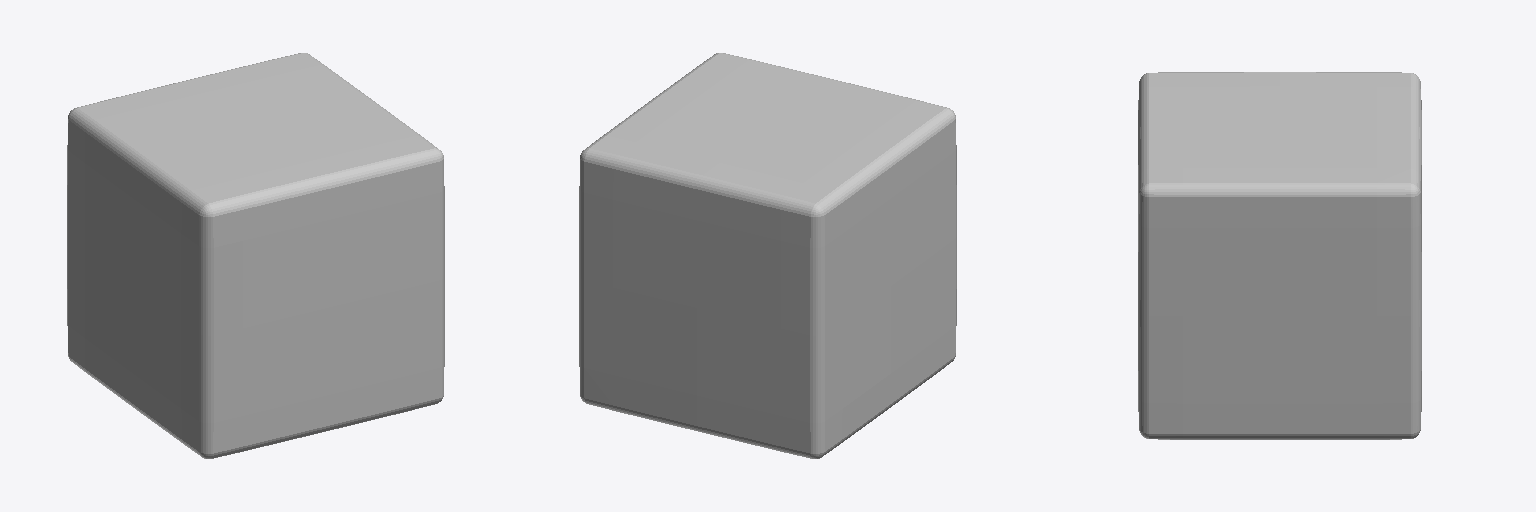
Rendered from RoundedCube.obj.
The picture shows the model from 3 angles: view 1: azimuth 30°, elevation 25°; view 2: azimuth 150°, elevation 25°; view 3: azimuth 270°, elevation 25°; orthographic projection.
Parts seen in each view (by area): view 1: RoundedCube; view 2: RoundedCube; view 3: RoundedCube.
Part boxes in pixels (x1,y1,x2,y2): RoundedCube: (67,53,444,458); RoundedCube: (579,53,956,458); RoundedCube: (1138,72,1421,439).
Bounding box in the file's own units: 2 × 2 × 2.